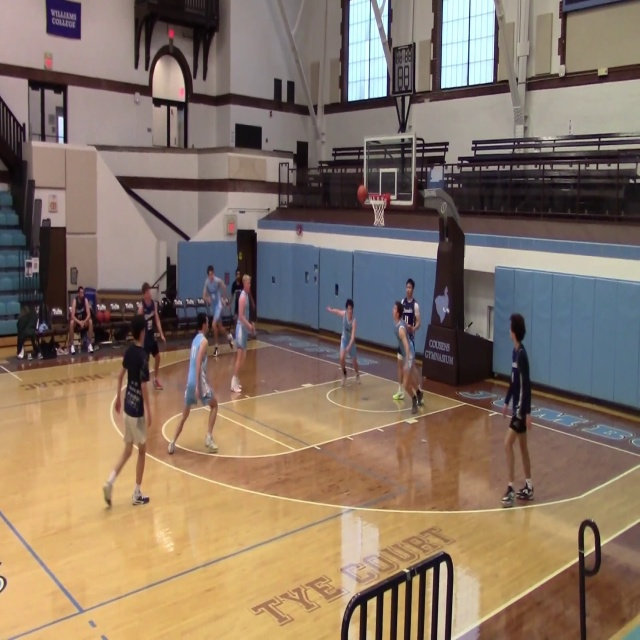Basketball: (95, 305, 111, 323), (357, 184, 368, 204), (96, 310, 111, 323)
